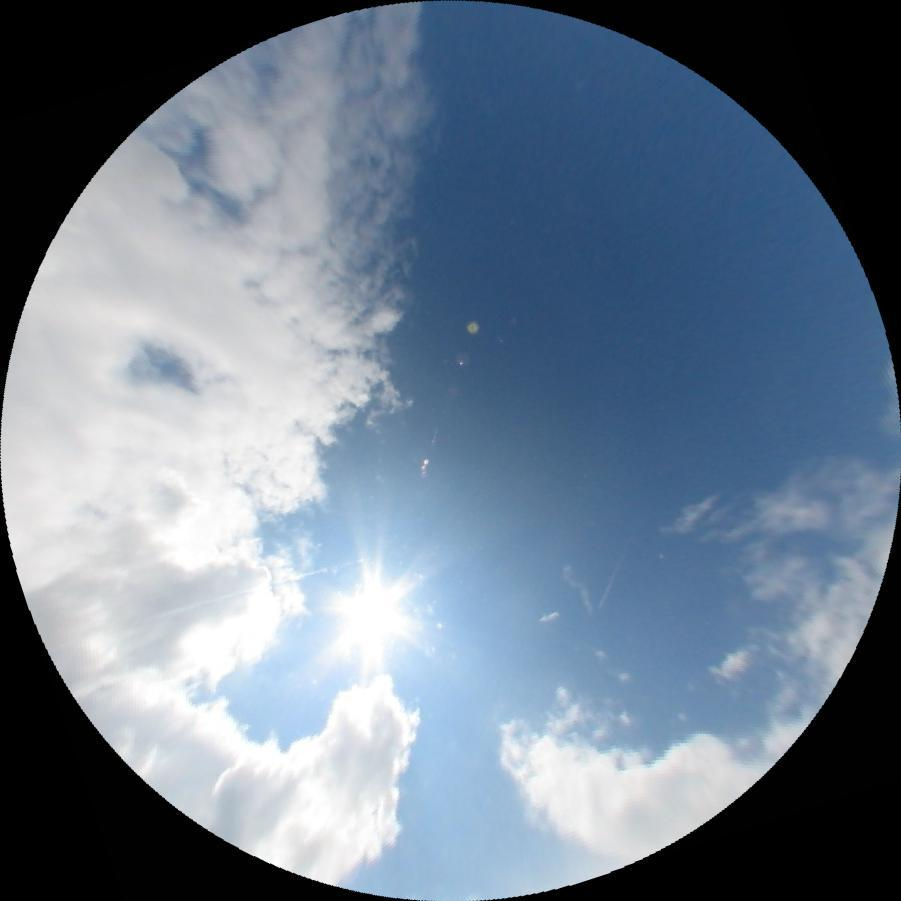contrail young: (598, 554, 622, 609)
parasite: (107, 564, 328, 633)
sun: (346, 588, 404, 637)
